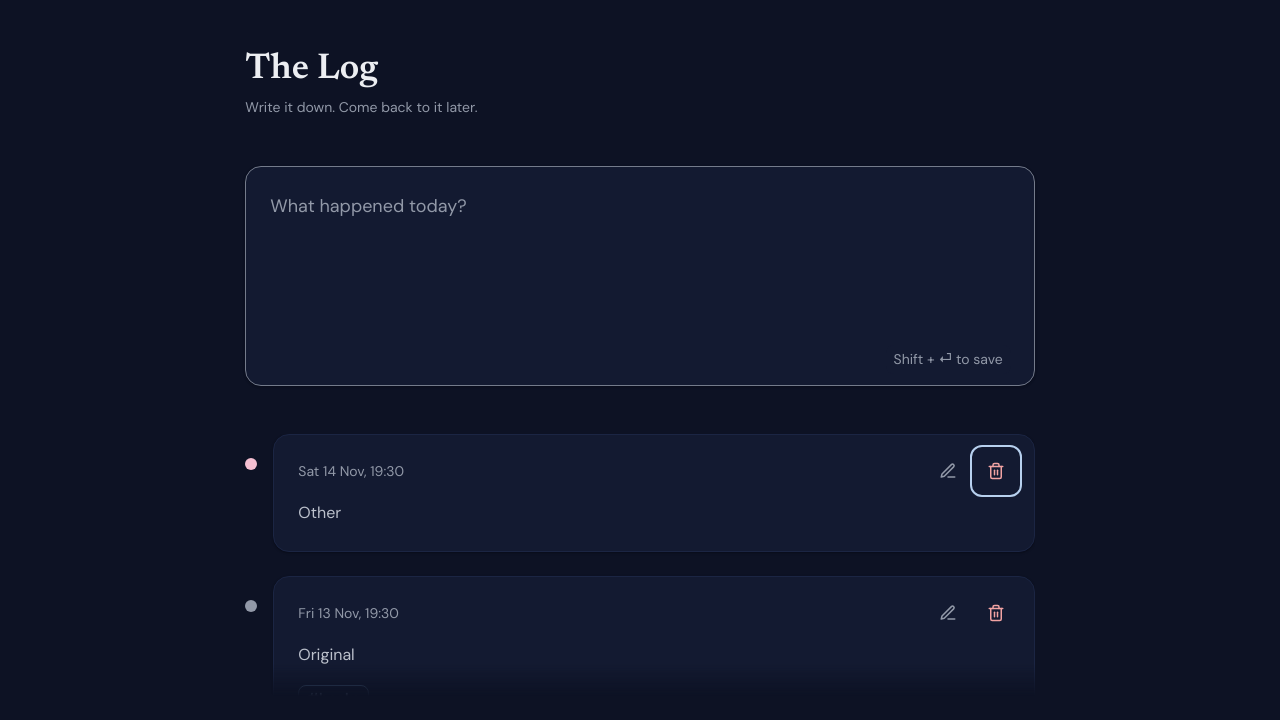
Test: Escape closes the Delete dialog with focus on the body, deleting nothing
Click the button named "Delete thought, Sat 14 Nov, 19:30" at (996, 471), box [974, 449, 1018, 493]
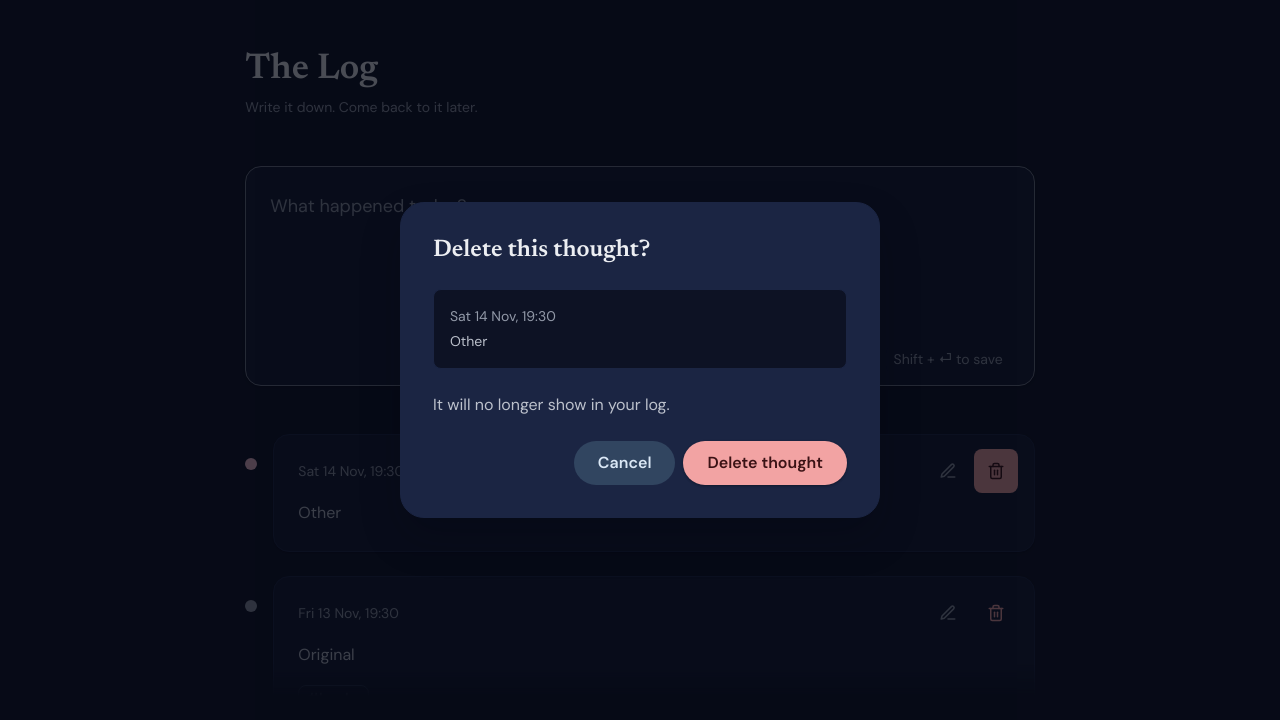
Press Escape
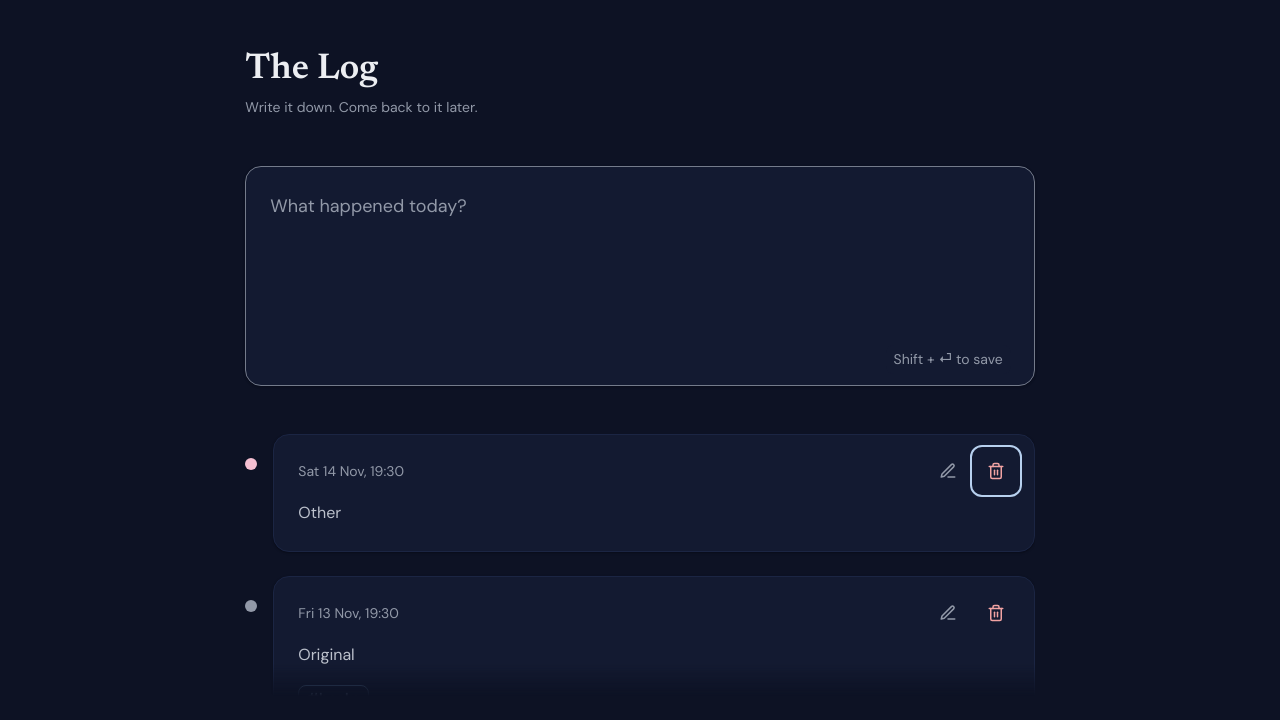
Check: the dialog with class "delete-dialog" is gone
